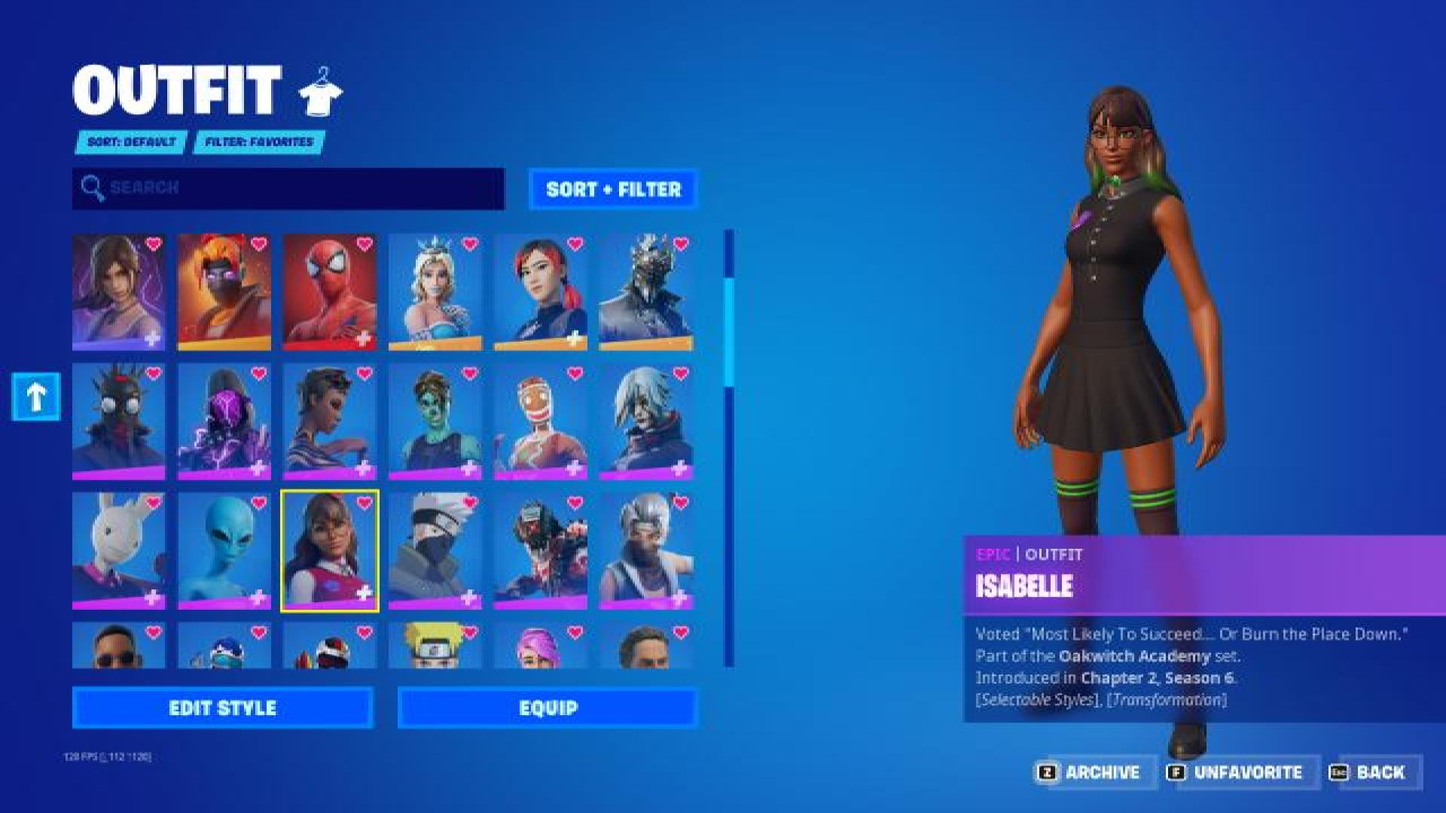player: (973, 86, 1325, 770)
